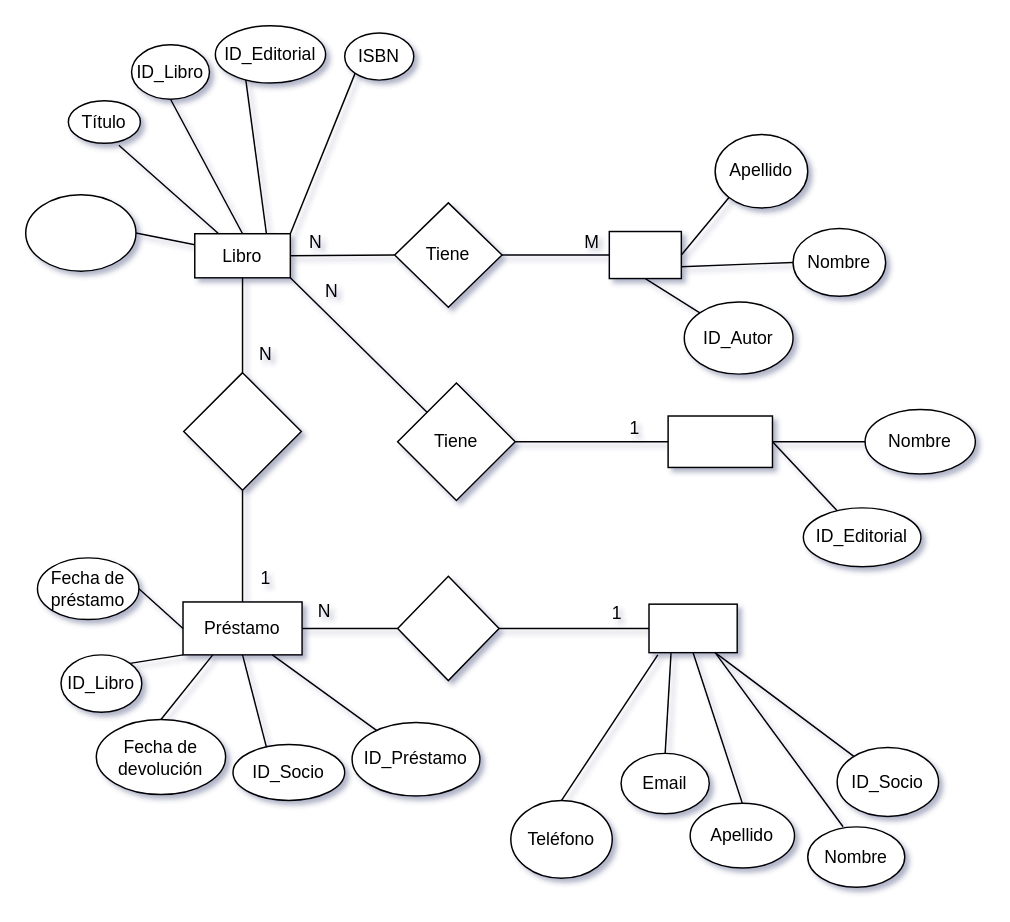
Some shapes in this 1010 by 922 pixel diagram are drawn without their labels. Each missing label, with the centre of its shape:
Asociado: (241,430)
Autor: (644,254)
Año de publicación: (80,232)
Editorial: (719,441)
Hacer: (447,628)
Socio: (692,628)
